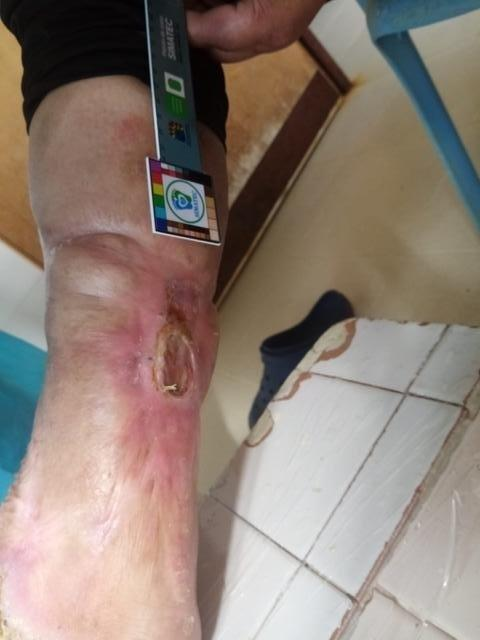wound: (153, 280, 199, 399)
